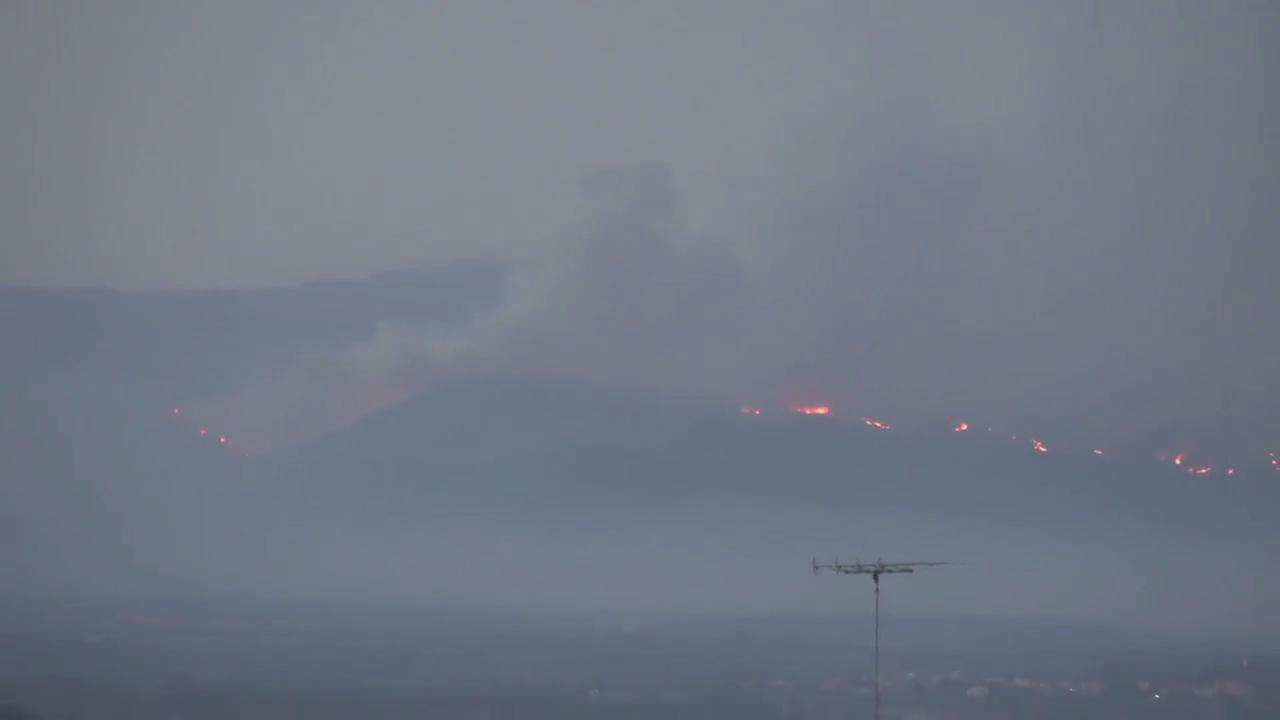fire: (794, 404, 834, 419), (1029, 434, 1049, 454), (1185, 463, 1217, 475), (863, 419, 892, 431), (948, 420, 970, 434), (1172, 454, 1183, 464)
